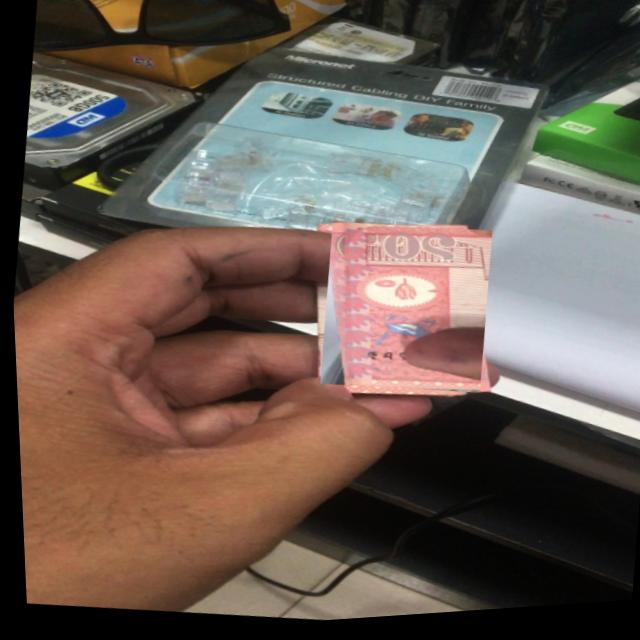Taka: (310, 218, 496, 407)
